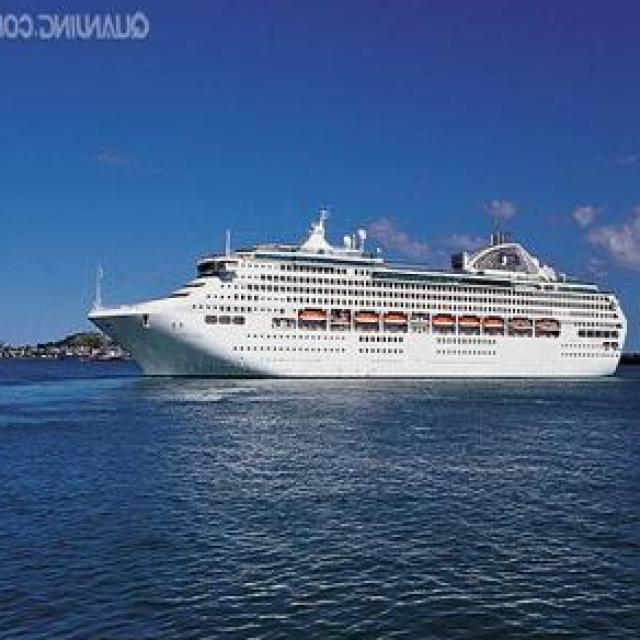passenger ship: (92, 230, 637, 379)
